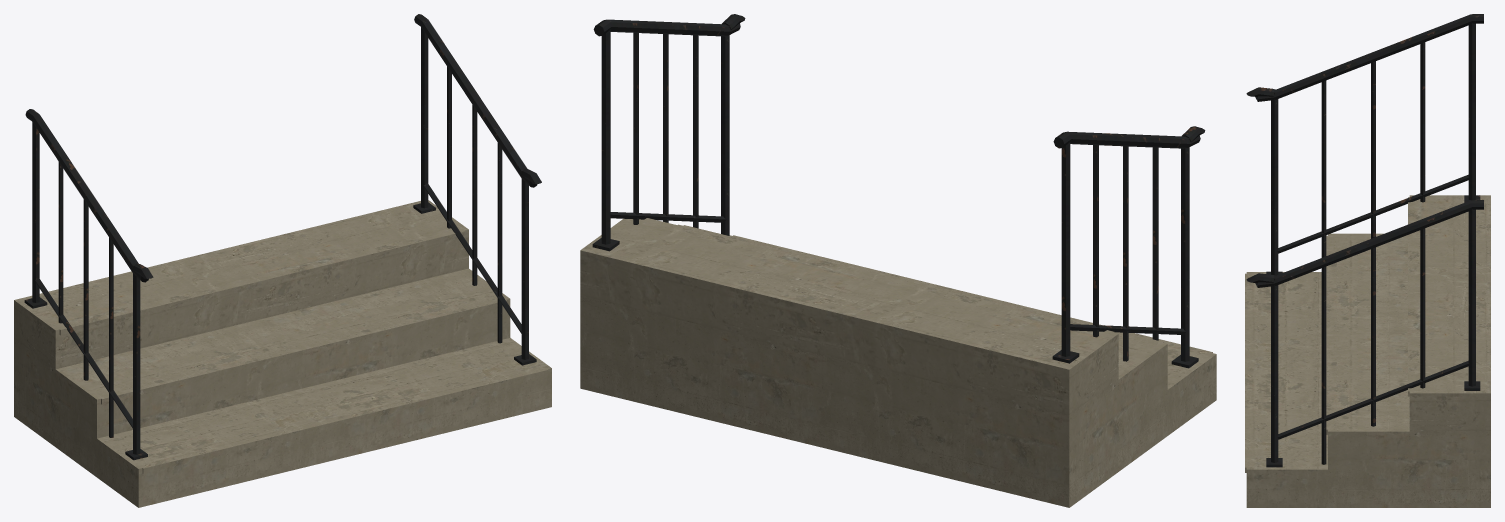
File: stoop.glb
The picture shows the model from 3 angles, left to right: view 1: azimuth 30°, elevation 25°; view 2: azimuth 150°, elevation 25°; view 3: azimuth 270°, elevation 25°; orthographic projection. The views are drawn at different scales.
Visible parts, largest first — view 1: stoop; view 2: stoop; view 3: stoop.
Boxes of the visible parts, box(x1,y1,x2,y2) form: stoop: box(14, 14, 551, 507); stoop: box(580, 14, 1216, 507); stoop: box(1245, 14, 1490, 507).
Size of the model in its own units: 2 by 1.42 by 1.05.
Materials: 2 (2 with a texture image).
